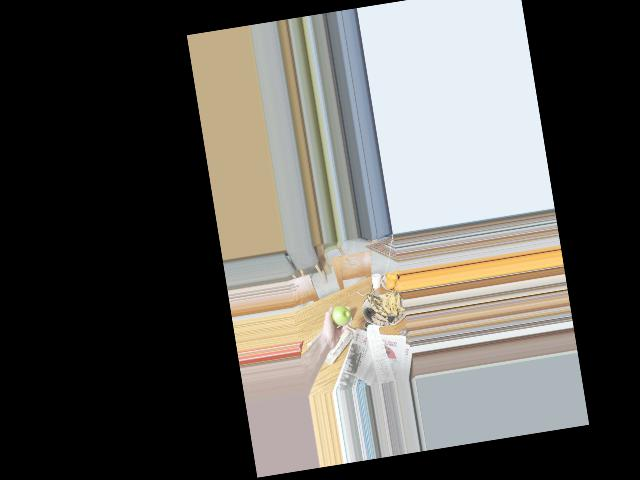apple: (327, 303, 351, 329)
